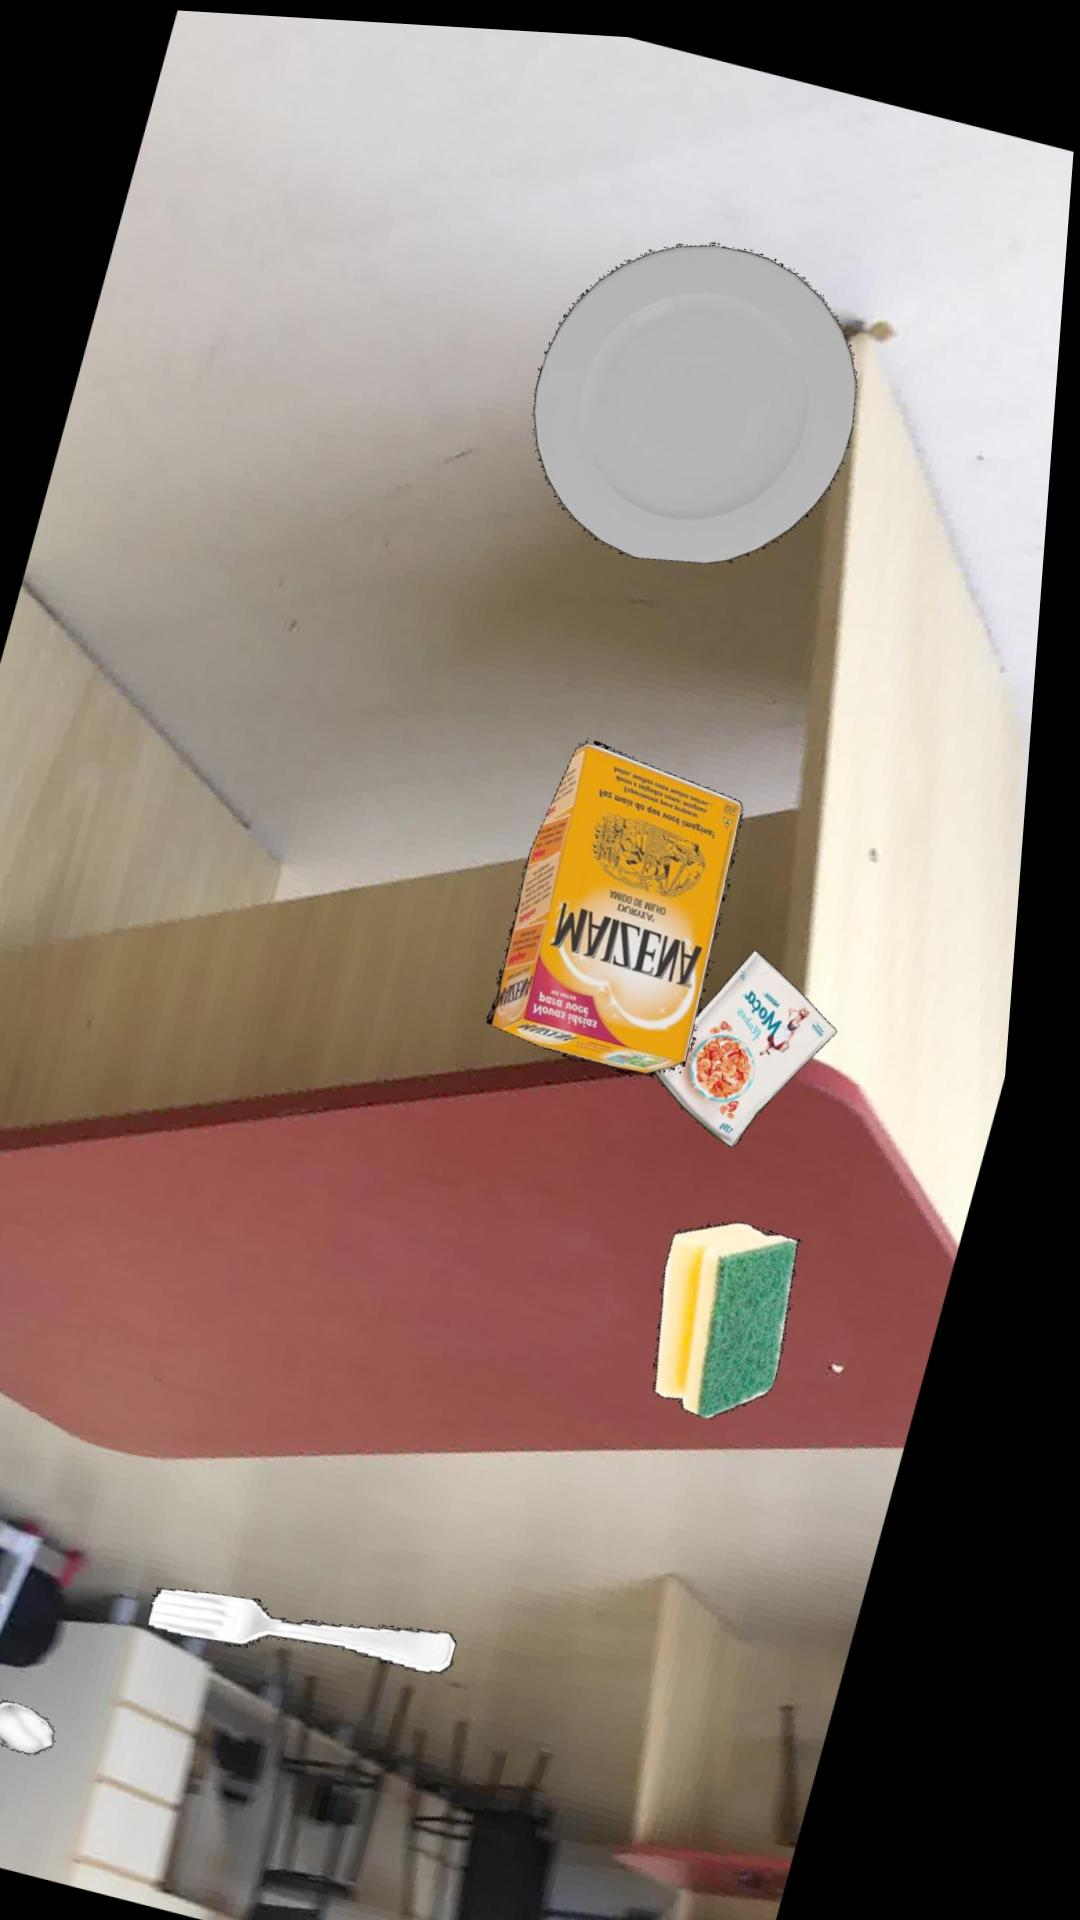corn flakes: (670, 940, 853, 1138)
fork: (173, 1585, 483, 1668)
plate: (539, 236, 862, 555)
sponge: (675, 1212, 819, 1410)
spoon: (0, 1700, 82, 1754)
